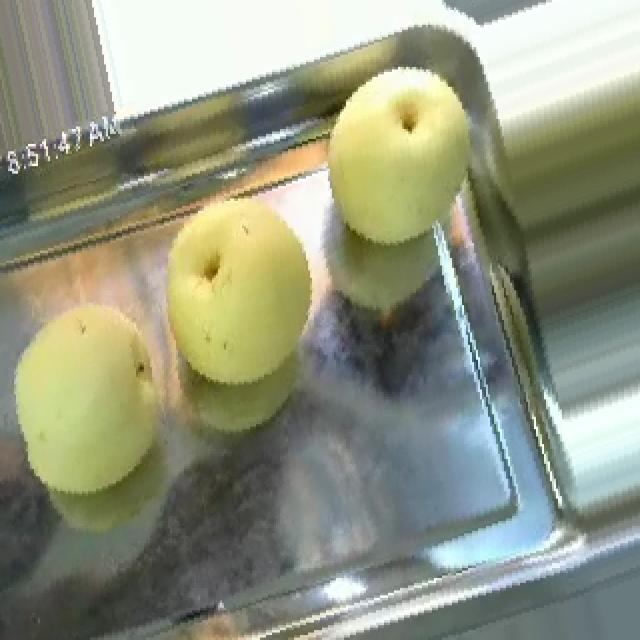Fruit: (0, 270, 226, 521), (130, 166, 352, 414), (298, 45, 514, 273)
